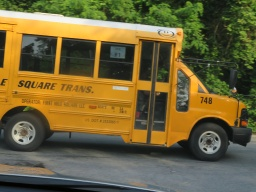bus: (1, 9, 251, 161)
